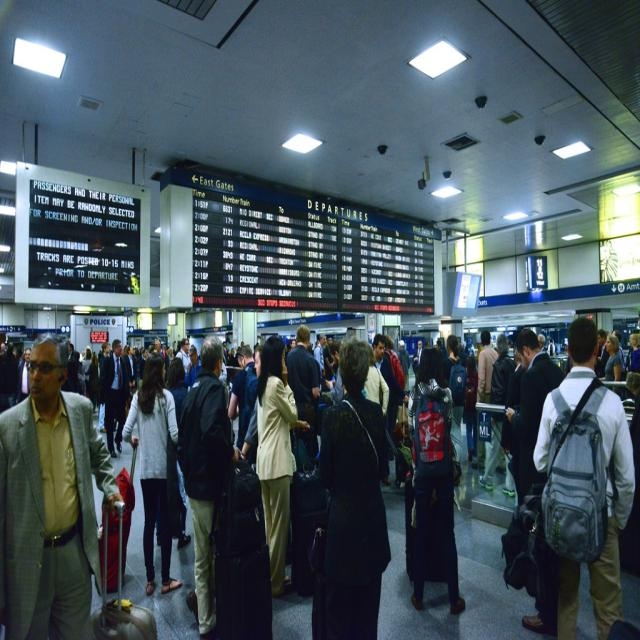body: (0, 322, 638, 390), (0, 329, 127, 639), (529, 313, 639, 639), (174, 332, 274, 639), (303, 335, 395, 639), (178, 332, 240, 635), (119, 348, 185, 598), (406, 344, 466, 616), (253, 334, 313, 600), (499, 328, 567, 510), (478, 333, 518, 500), (286, 323, 322, 465), (227, 342, 260, 474), (439, 333, 467, 472), (372, 333, 397, 487), (97, 336, 127, 459), (240, 344, 264, 460), (461, 349, 483, 463), (362, 343, 390, 419), (477, 329, 499, 404), (324, 338, 346, 407), (123, 345, 138, 411), (17, 346, 32, 403), (185, 344, 202, 392)
